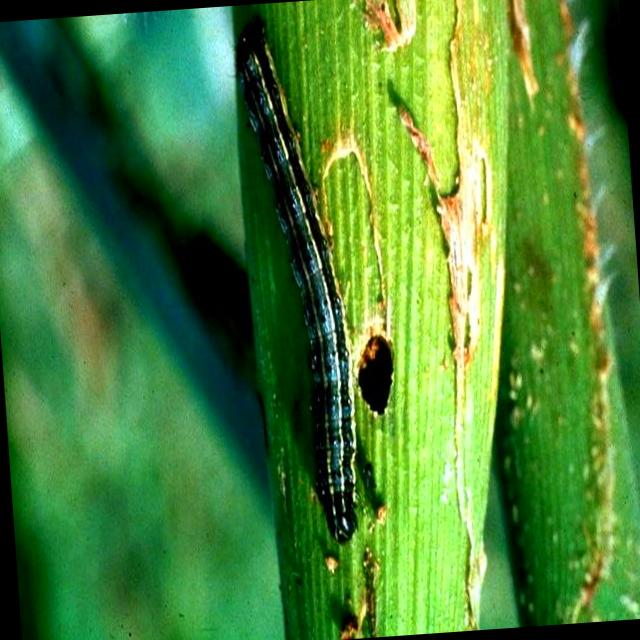pest: (257, 32, 368, 540)
